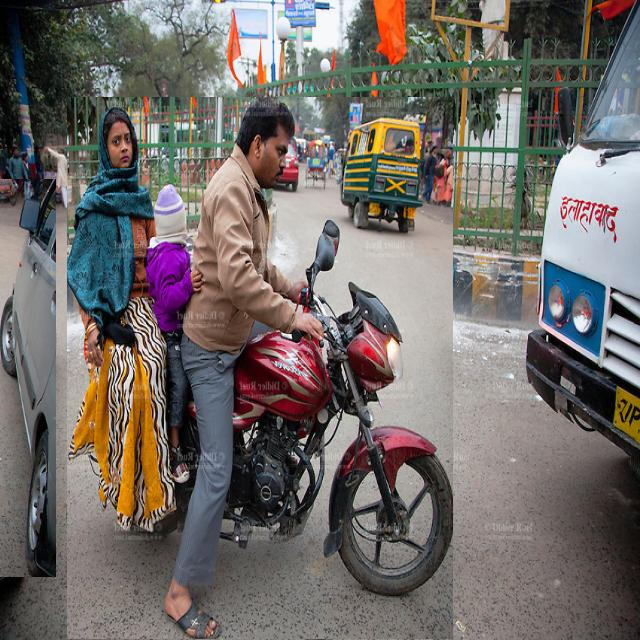bus: (526, 0, 640, 483)
car: (0, 180, 56, 577), (99, 118, 179, 231), (222, 143, 242, 191)
motorcycle: (68, 98, 453, 639)
